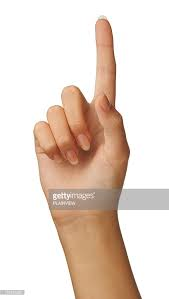hand: (32, 6, 143, 236)
